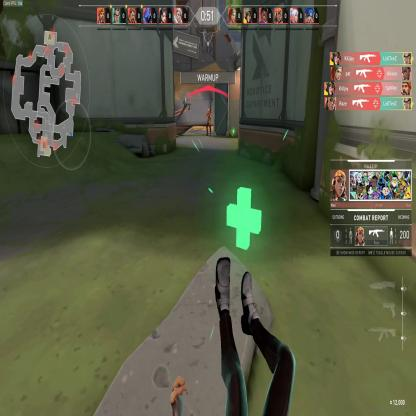enemy: (205, 107, 212, 137)
